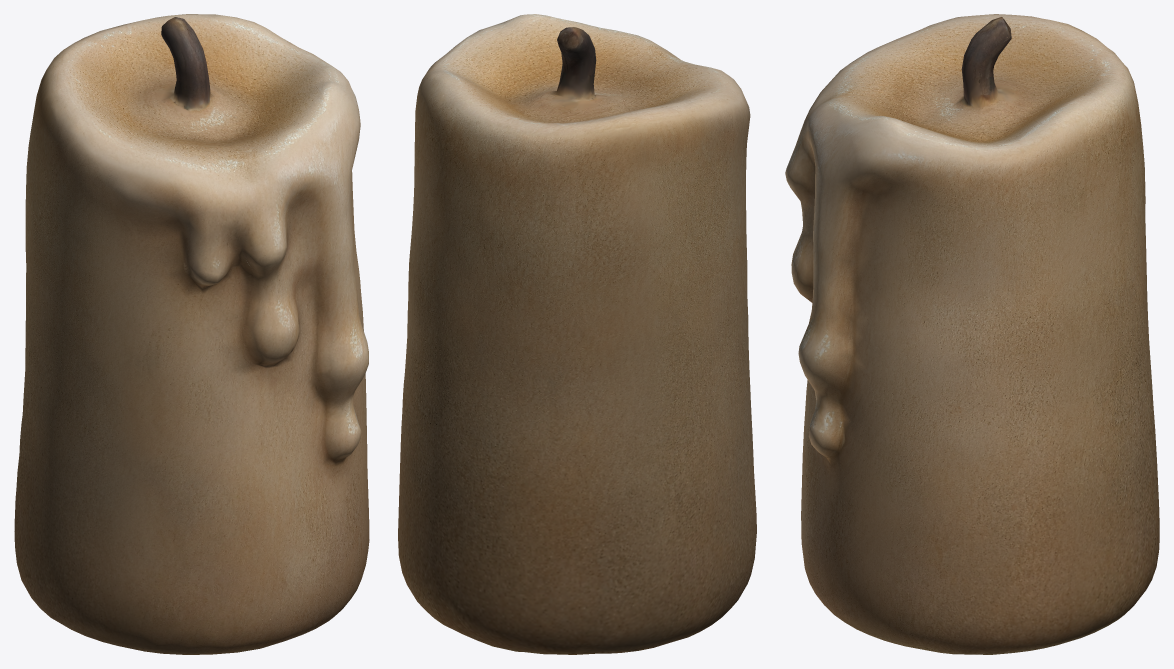
The model's file is Prop_Candle.fbx.
3 renders of one model, left to right at view 1: azimuth 30°, elevation 25°; view 2: azimuth 150°, elevation 25°; view 3: azimuth 270°, elevation 25°, orthographic.
Parts seen in each view (by area): view 1: texture_mapping; view 2: texture_mapping; view 3: texture_mapping.
Boxes of the visible parts, box(x1,y1,x2,y2) form: texture_mapping: box(14, 14, 369, 654); texture_mapping: box(398, 14, 756, 654); texture_mapping: box(785, 14, 1159, 654).
Size of the model in its own units: 0.5633 by 0.5948 by 1.
1 material, 1 textured.
